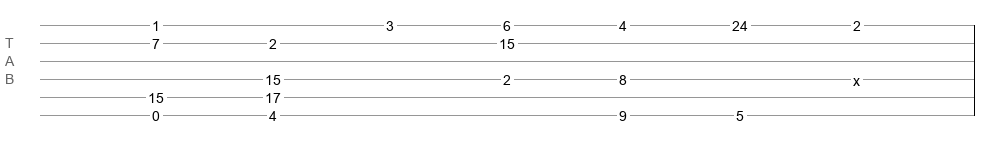0: (152, 108, 160, 118)
1: (152, 18, 160, 28)
15: (148, 90, 164, 100), (265, 72, 281, 82), (499, 36, 515, 46)
17: (265, 90, 281, 100)
2: (269, 36, 277, 46), (503, 72, 511, 82), (853, 18, 861, 28)
24: (732, 18, 748, 28)
3: (386, 18, 394, 28)
4: (269, 108, 277, 118), (619, 18, 627, 28)
5: (736, 108, 744, 118)
6: (503, 18, 511, 28)
7: (152, 36, 160, 46)
8: (619, 72, 627, 82)
9: (619, 108, 627, 118)
x: (853, 73, 860, 81)
